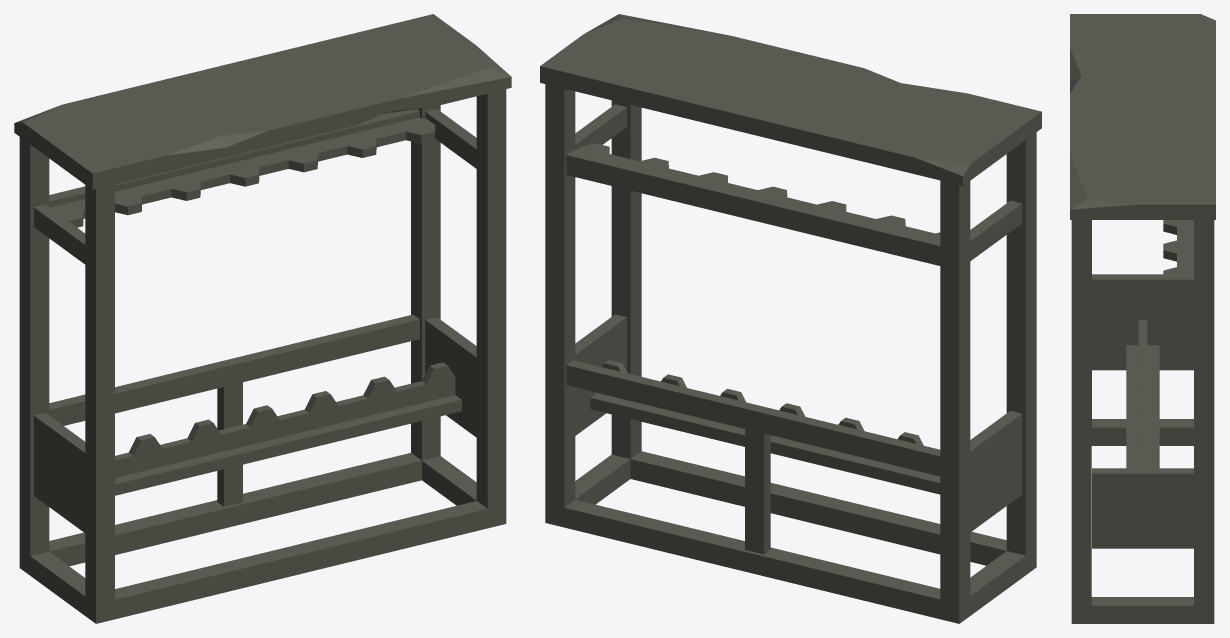
File: SM_Prop_Gunrack_01.glb
The picture shows the model from 3 angles, left to right: view 1: azimuth 30°, elevation 25°; view 2: azimuth 150°, elevation 25°; view 3: azimuth 270°, elevation 25°; orthographic projection. The views are drawn at different scales.
Parts seen in each view (by area): view 1: SM_Prop_Gunrack_01; view 2: SM_Prop_Gunrack_01; view 3: SM_Prop_Gunrack_01.
Boxes of the visible parts, x1=… form: SM_Prop_Gunrack_01: x1=14, y1=14, x2=511, y2=623; SM_Prop_Gunrack_01: x1=540, y1=14, x2=1041, y2=623; SM_Prop_Gunrack_01: x1=1070, y1=14, x2=1215, y2=623.
Bounding box in the file's own units: 1.26 × 1.29 × 0.406.
1 material, 1 textured.
